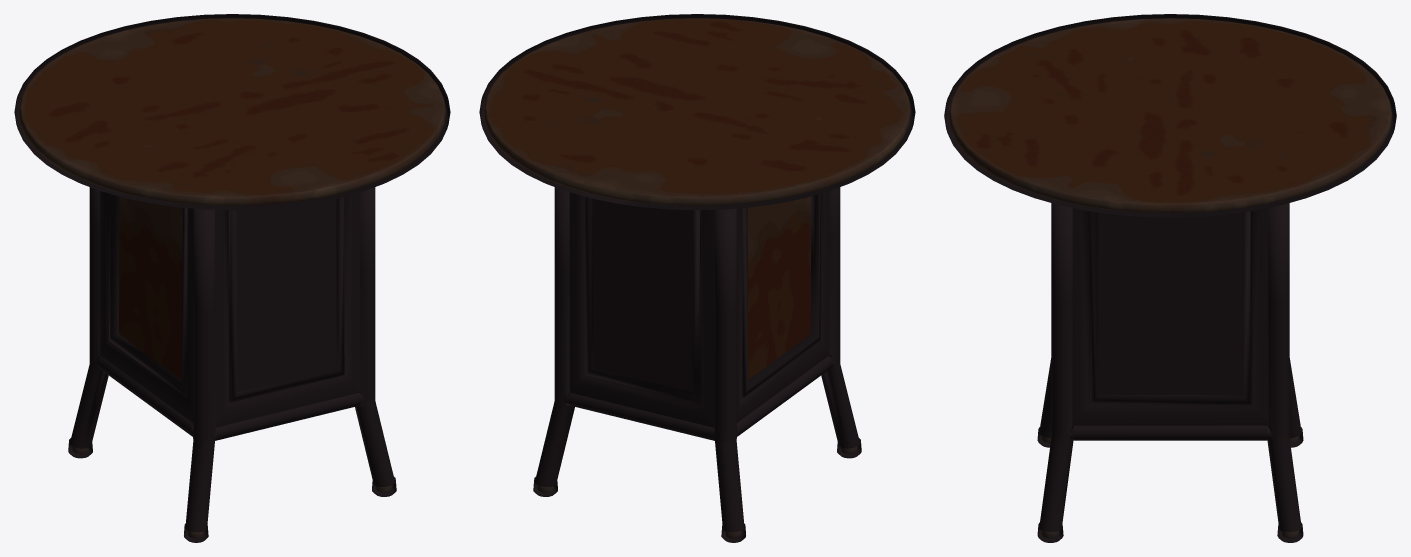
File: SM_Int_RoundTableB.fbx
3 views of the same model, side by side, from view 1: azimuth 30°, elevation 25°; view 2: azimuth 150°, elevation 25°; view 3: azimuth 270°, elevation 25° (orthographic). The views are drawn at different scales.
Parts seen in each view (by area): view 1: SM_Int_RoundTableB; view 2: SM_Int_RoundTableB; view 3: SM_Int_RoundTableB.
Boxes of the visible parts, x1=… form: SM_Int_RoundTableB: x1=14, y1=14, x2=450, y2=542; SM_Int_RoundTableB: x1=479, y1=14, x2=915, y2=542; SM_Int_RoundTableB: x1=944, y1=14, x2=1396, y2=542.
Size of what is drawn, in the model's own units: 0.8122 by 0.762 by 0.8122.
